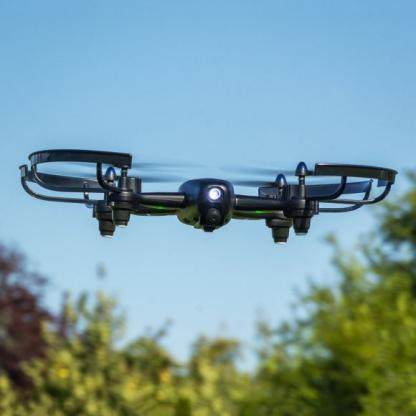drone: (21, 122, 407, 256)
